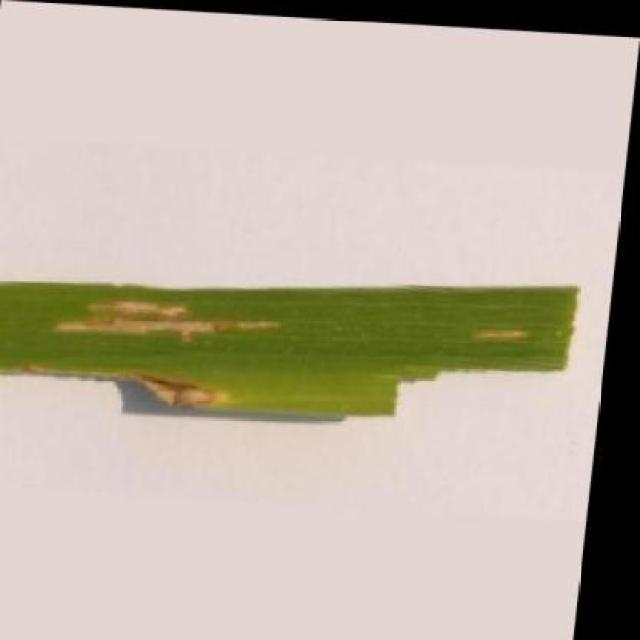Brown_Spot: (0, 246, 598, 431)
